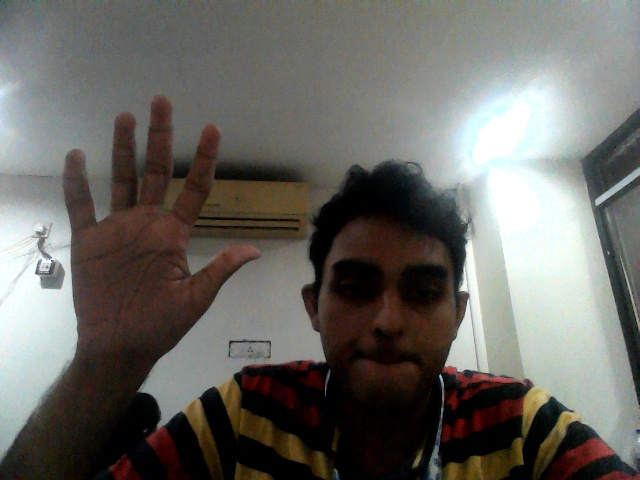palm: (45, 94, 265, 351)
